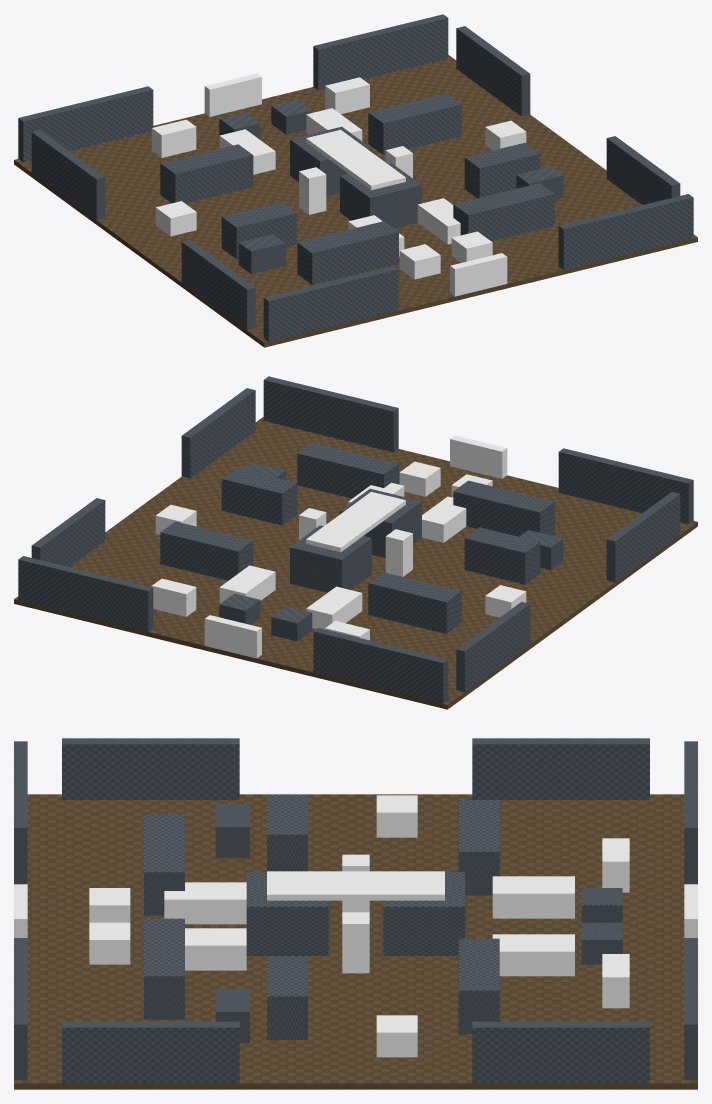
The model's file is fps_stage03.gltf.
3 renders of one model, top to bottom at view 1: azimuth 30°, elevation 25°; view 2: azimuth 150°, elevation 25°; view 3: azimuth 270°, elevation 25°, orthographic. The views are drawn at different scales.
Visible parts, largest first — view 1: Floor, SWall_L, SWall_R, NWall_R, NWall_L, Container_L_C, Container_R_C, Container_L_A, Container_R_A, WWall_B, EWall_T, WWall_T (+23 smaller); view 2: Floor, NWall_L, NWall_R, SWall_R, SWall_L, Container_L_A, Container_R_A, Container_L_C, Container_R_C, WWall_T, EWall_B, WWall_B (+20 smaller); view 3: Floor, EWall_B, EWall_T, WWall_B, WWall_T, CoreCatwalk, CoreBlock_B, CoreBlock_A, Container_R_C, Container_L_A, Container_R_A, Container_L_C (+24 smaller).
Boxes of the visible parts, x1,y1,x2,y2 form: Floor: (14,55,697,347); SWall_L: (263,266,398,341); SWall_R: (558,194,693,269); NWall_R: (313,14,448,90); NWall_L: (18,86,153,162); Container_L_C: (297,221,398,284); Container_R_C: (453,183,554,241); Container_L_A: (160,144,253,203); Container_R_A: (368,93,461,155); WWall_B: (181,239,255,330); EWall_T: (456,26,530,116); WWall_T: (31,130,105,220); Floor: (14,417,697,709); NWall_L: (313,628,448,703); NWall_R: (18,556,153,631); SWall_R: (263,376,398,452); SWall_L: (558,448,693,524); Container_L_A: (368,572,461,633); Container_R_A: (160,521,253,580); Container_L_C: (453,480,554,536); Container_R_C: (297,442,398,498); WWall_T: (456,601,530,692); EWall_B: (181,388,255,478); WWall_B: (606,492,680,582); Floor: (14,794,697,1089); EWall_B: (62,1021,239,1083); EWall_T: (472,1021,649,1083); WWall_B: (62,738,239,799); WWall_T: (472,738,649,799); CoreCatwalk: (267,871,444,900); CoreBlock_B: (246,872,328,955); CoreBlock_A: (383,872,465,955); Container_R_C: (144,918,184,1019); Container_L_A: (458,800,499,895); Container_R_A: (458,938,499,1034); Container_L_C: (144,814,184,915).
Bounding box in the file's own units: 100 × 10 × 100.
